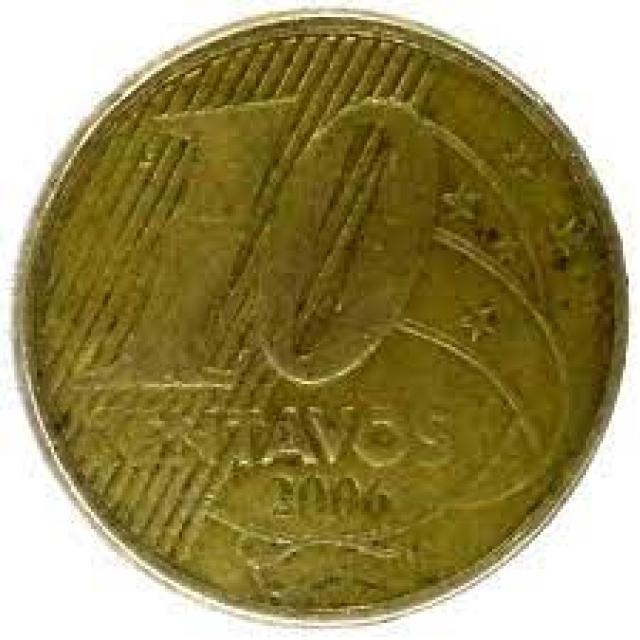10 cent: (28, 15, 618, 616)
